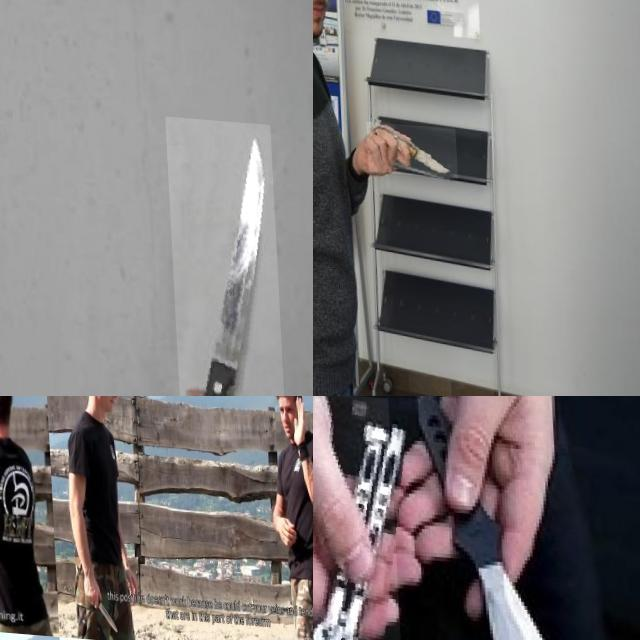-: (407, 396, 584, 640), (162, 110, 285, 396), (313, 396, 407, 640), (363, 117, 454, 173), (78, 573, 114, 628), (0, 396, 15, 449)
